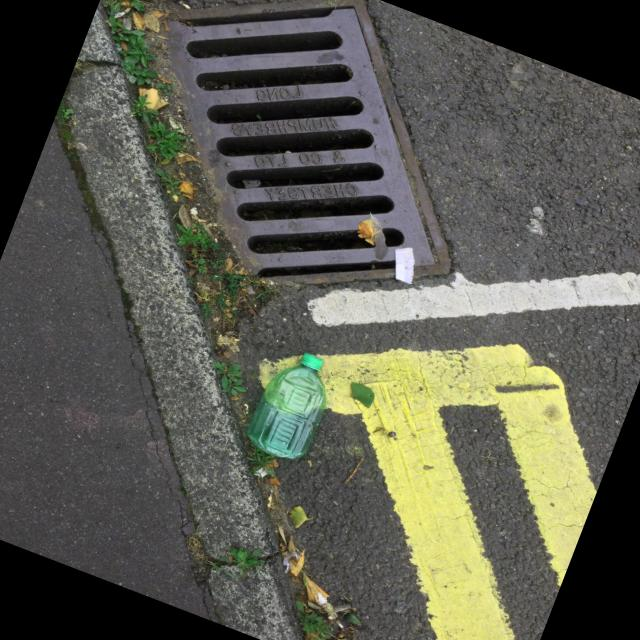less trash: (247, 354, 326, 459), (394, 248, 415, 284)
